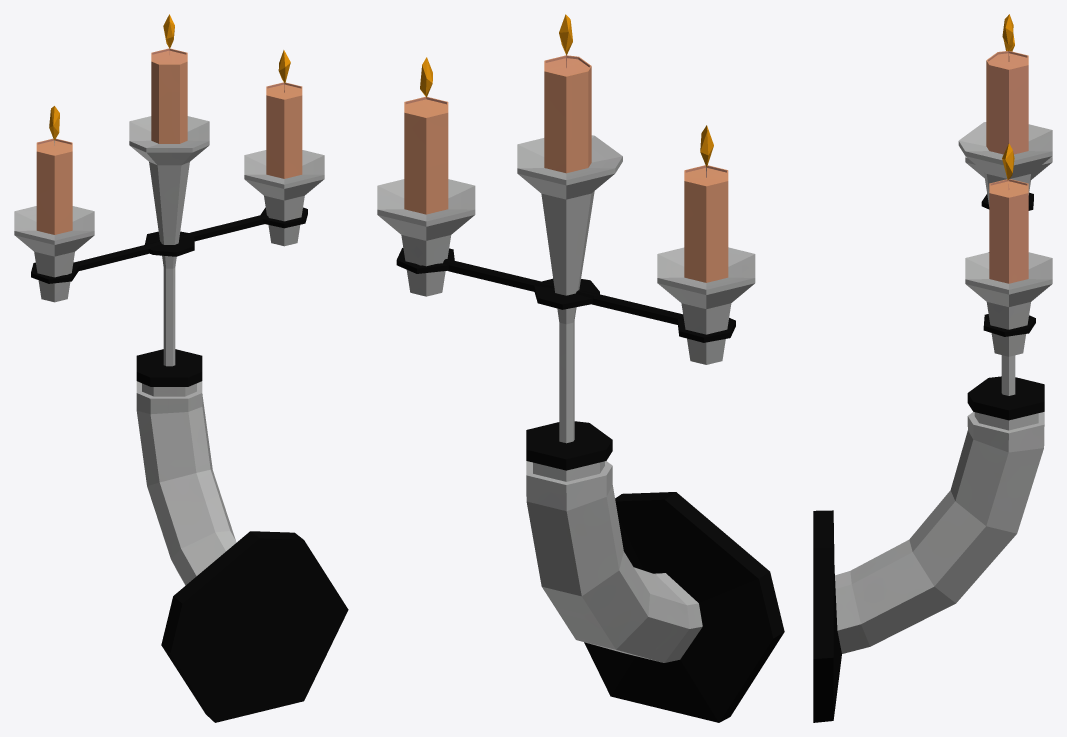
The model's file is Candle_5.fbx.
3 renders of one model, left to right at view 1: azimuth 30°, elevation 25°; view 2: azimuth 150°, elevation 25°; view 3: azimuth 270°, elevation 25°, orthographic. The views are drawn at different scales.
Parts seen in each view (by area): view 1: Candle 5; view 2: Candle 5; view 3: Candle 5.
Part boxes in pixels (box(x1,y1,x2,y2)): Candle 5: box(14, 14, 348, 722); Candle 5: box(377, 14, 784, 722); Candle 5: box(813, 14, 1052, 722).
Size of the model in its own units: 41.09 by 80 by 25.29.
